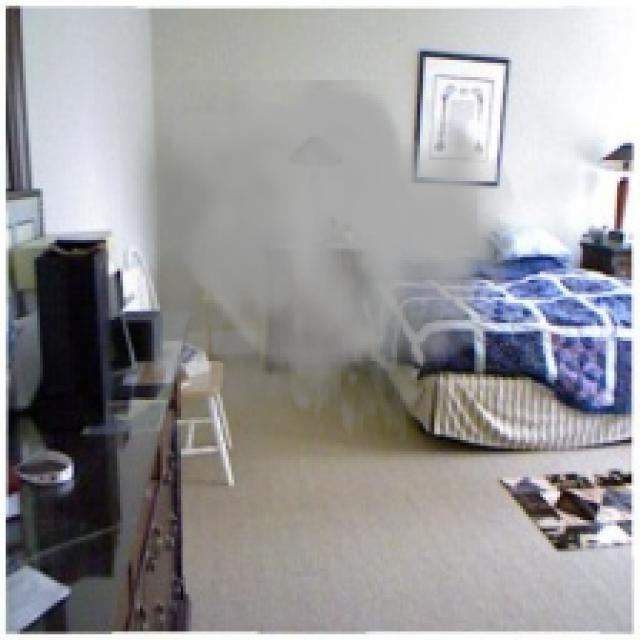smoke: (117, 80, 520, 483)
